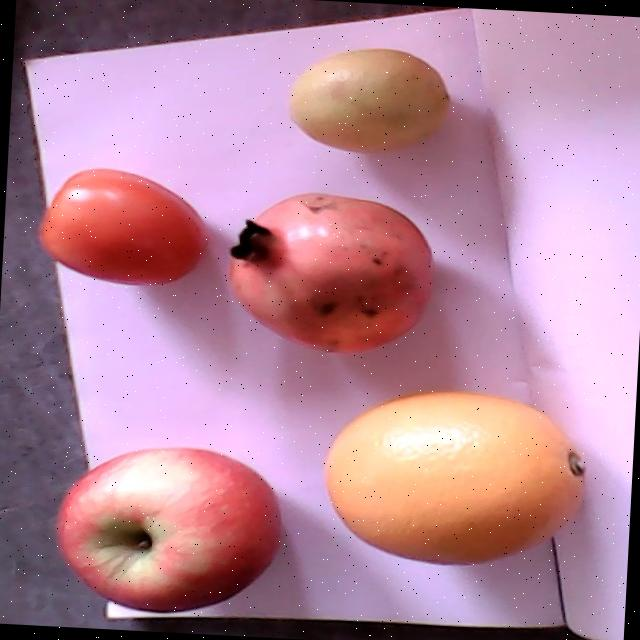apple: (58, 447, 280, 612)
lemon: (286, 48, 452, 154)
orange: (325, 390, 585, 566)
pomegranate: (228, 192, 435, 356)
tomato: (38, 168, 212, 286)
